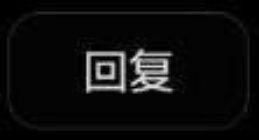Button: (1, 1, 258, 139)
